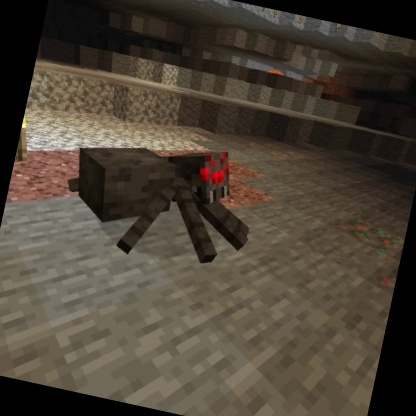spider: (52, 115, 270, 283)
